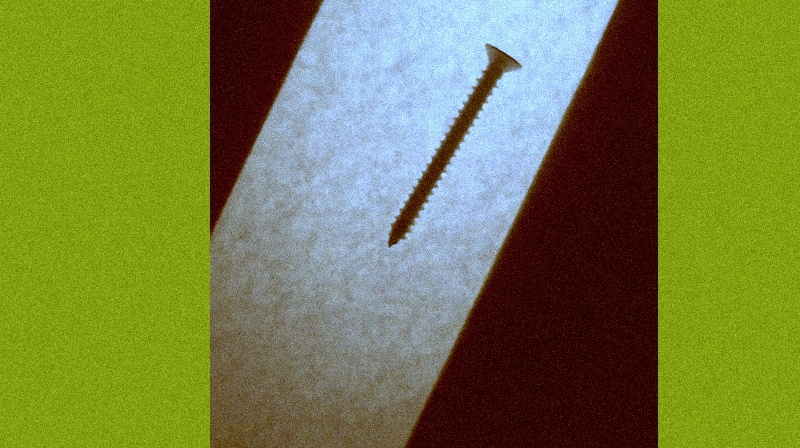S002: (384, 38, 524, 250)
